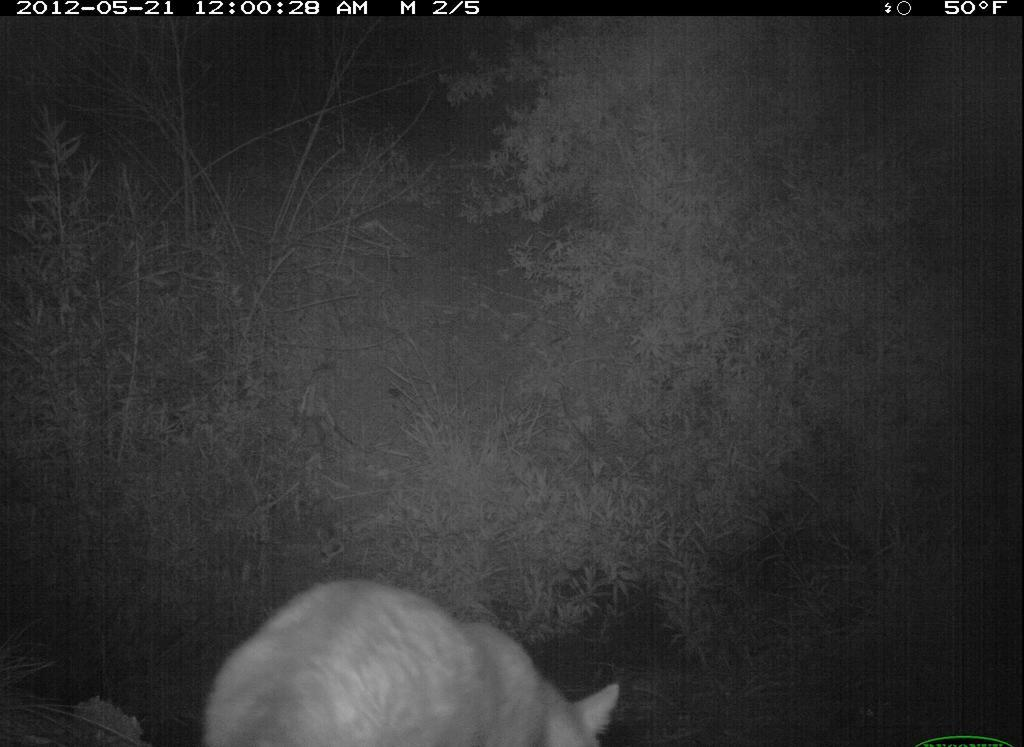cat: (214, 566, 630, 743)
